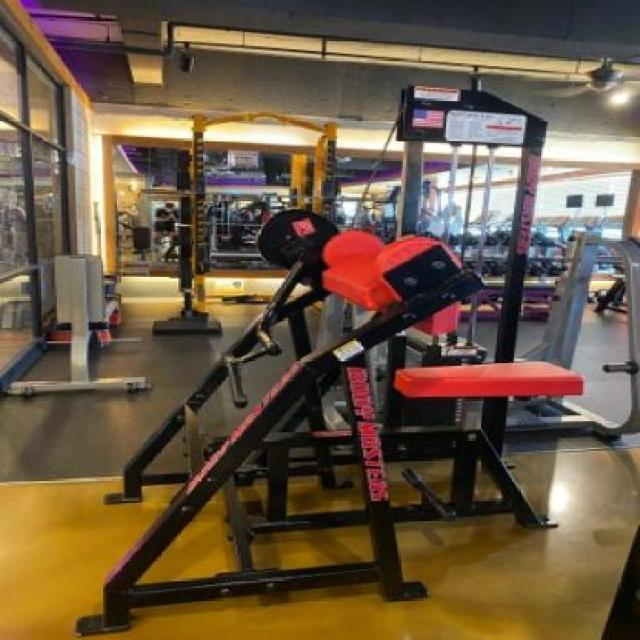arm curl machine: (100, 209, 586, 603)
